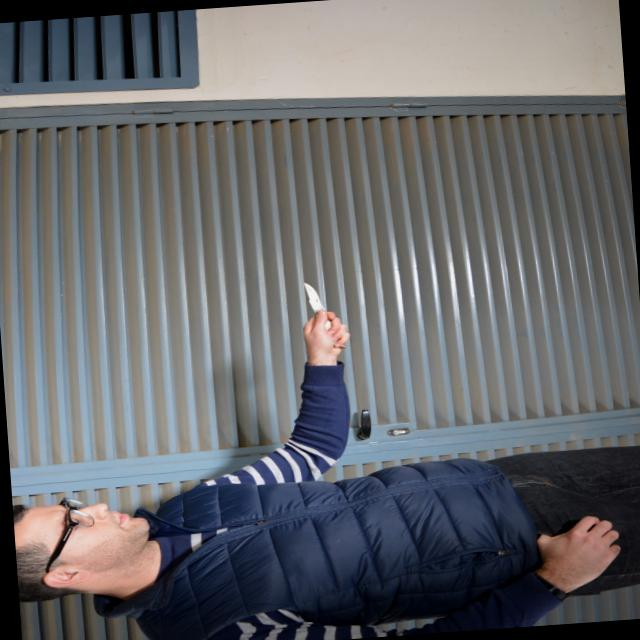knife: (298, 275, 349, 352)
